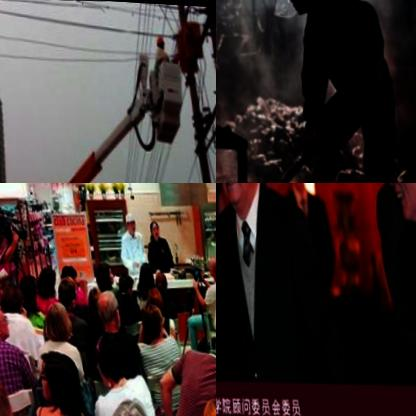head: (32, 347, 79, 405), (86, 330, 124, 386), (36, 298, 70, 341), (91, 288, 121, 333), (95, 399, 153, 416), (11, 272, 37, 309), (136, 299, 161, 337), (33, 262, 54, 297), (84, 284, 105, 318), (92, 258, 112, 292), (53, 279, 74, 311), (0, 279, 20, 312), (133, 257, 153, 289), (57, 260, 76, 288), (112, 269, 130, 296), (144, 284, 160, 309), (204, 250, 216, 277), (208, 325, 216, 364), (152, 268, 166, 289), (146, 215, 159, 236), (122, 210, 135, 230)
